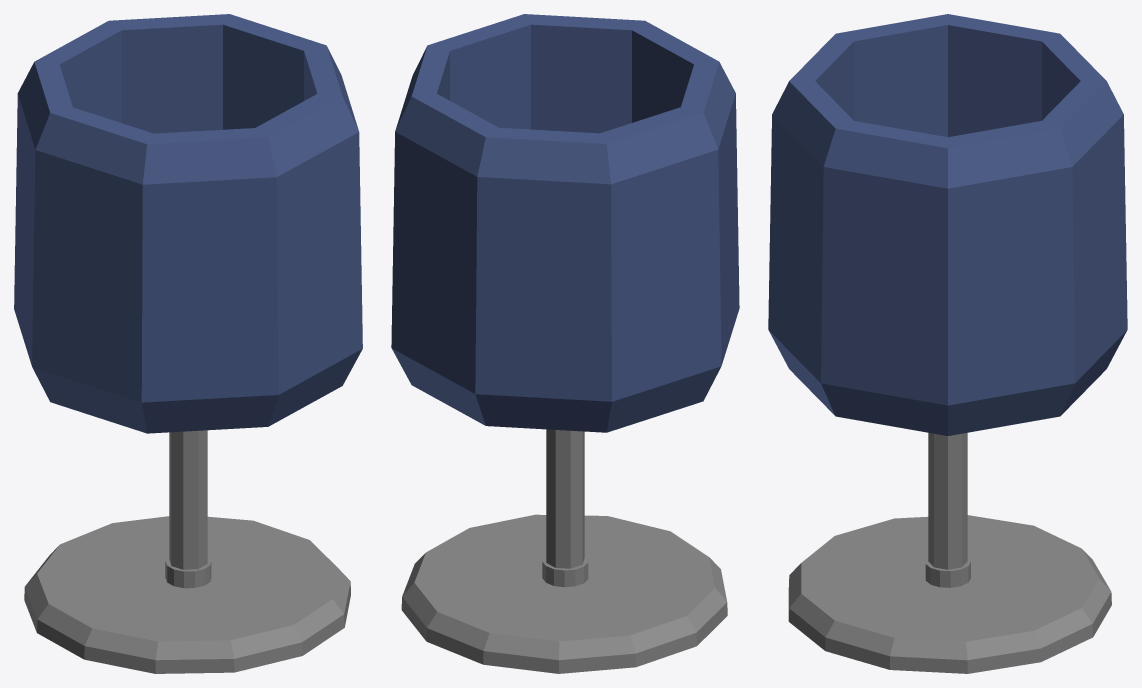
File: light_on_table.gltf
3 views of the same model, side by side, from view 1: azimuth 30°, elevation 25°; view 2: azimuth 150°, elevation 25°; view 3: azimuth 270°, elevation 25° (orthographic).
Parts seen in each view (by area): view 1: Lamp C; view 2: Lamp C; view 3: Lamp C.
Boxes of the visible parts, x1,y1,x2,y2 form: Lamp C: (14,14,362,673); Lamp C: (391,14,739,673); Lamp C: (768,14,1127,673).
Size of the model in its own units: 1.6 by 2.58 by 1.6.
